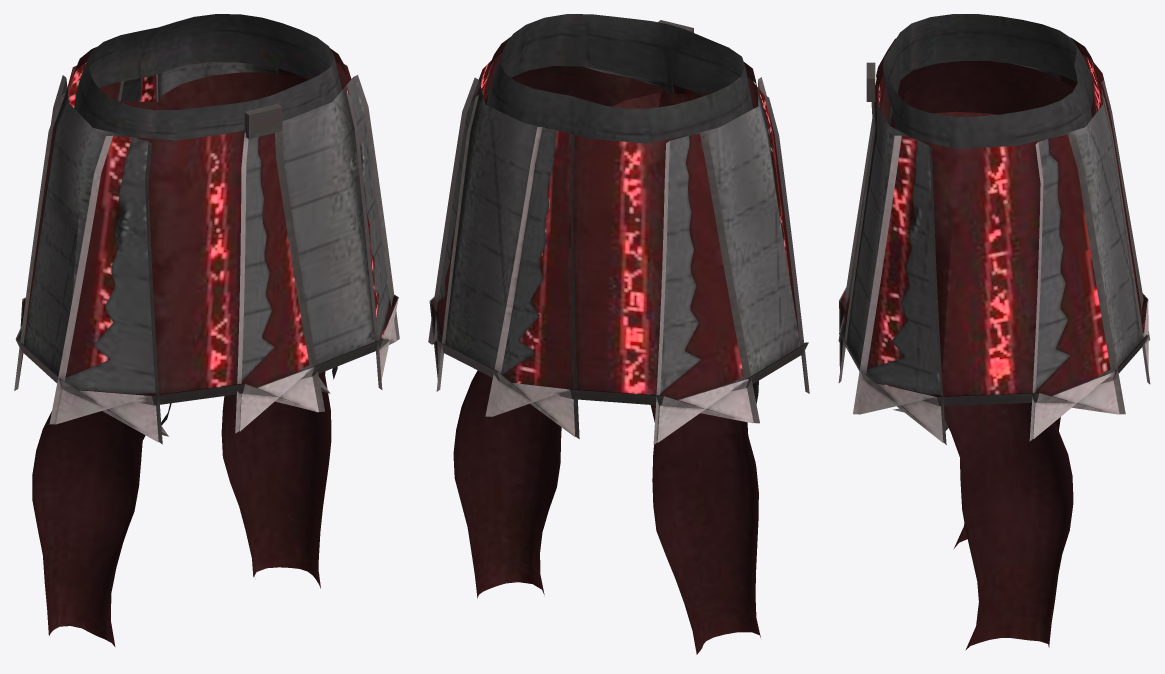
The model's file is Calça_de_Placas_nivel100.glb.
3 views of the same model, side by side, from view 1: azimuth 30°, elevation 25°; view 2: azimuth 150°, elevation 25°; view 3: azimuth 270°, elevation 25° (orthographic). The views are drawn at different scales.
Parts seen in each view (by area): view 1: calca_de_placas_nivel100; view 2: calca_de_placas_nivel100; view 3: calca_de_placas_nivel100.
Boxes of the visible parts, <box> form: calca_de_placas_nivel100: <box>14,14,399,646</box>; calca_de_placas_nivel100: <box>428,14,809,654</box>; calca_de_placas_nivel100: <box>838,14,1150,650</box>.
Size of the model in its own units: 0.546 by 0.8351 by 0.4342.
Materials: 1 (1 with a texture image).
